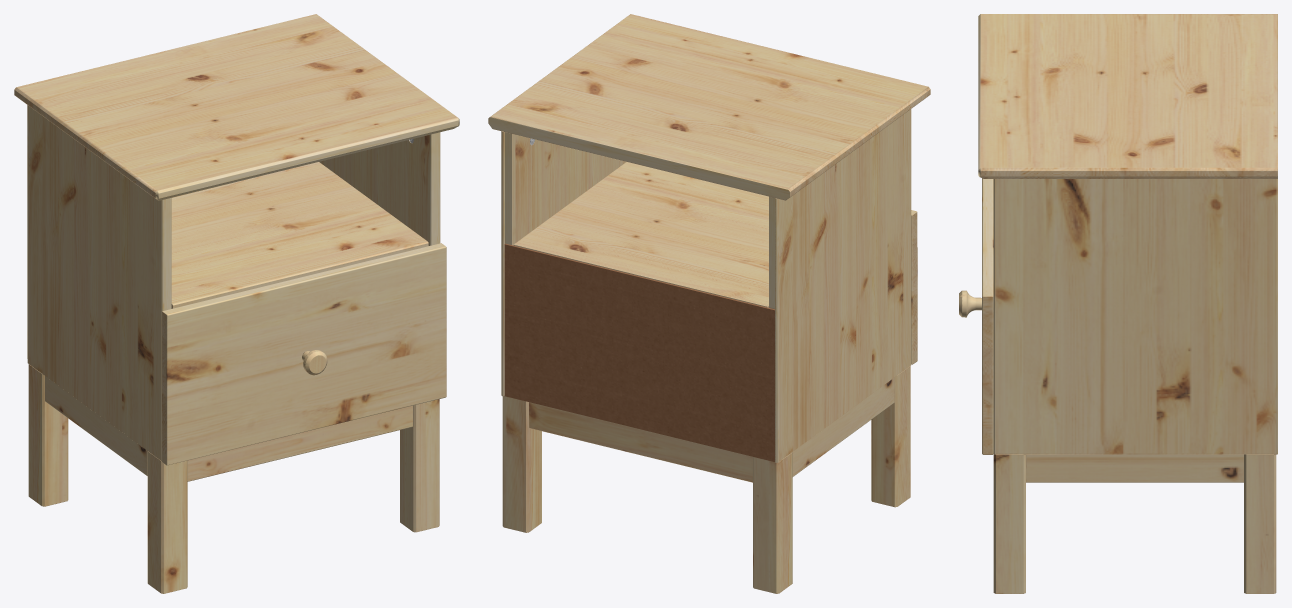
Rendered from BR-NIGHTSTAND-B.glb.
The picture shows the model from 3 angles, left to right: view 1: azimuth 30°, elevation 25°; view 2: azimuth 150°, elevation 25°; view 3: azimuth 270°, elevation 25°; orthographic projection. The views are drawn at different scales.
Parts seen in each view (by area): view 1: Mesh_0; view 2: Mesh_0; view 3: Mesh_0.
Boxes of the visible parts, x1=… form: Mesh_0: x1=14, y1=14, x2=459, y2=593; Mesh_0: x1=488, y1=14, x2=930, y2=593; Mesh_0: x1=959, y1=14, x2=1277, y2=593.
Size of the model in its own units: 0.4801 by 0.62 by 0.4149.
Materials: 1 (1 with a texture image).
